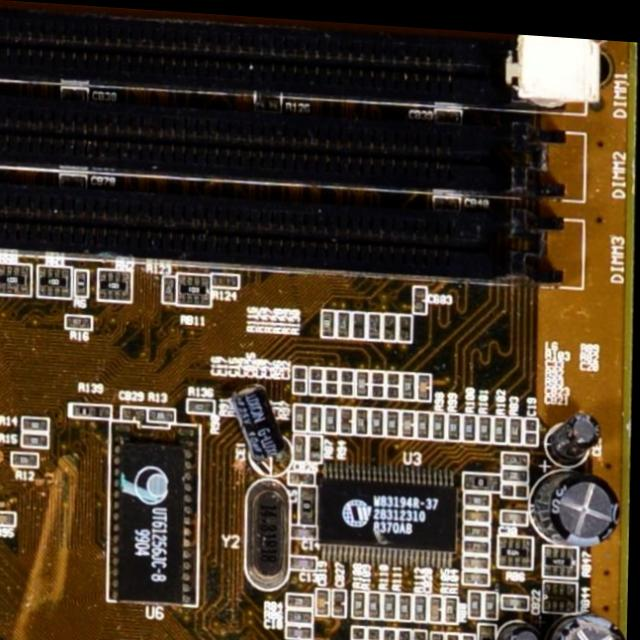IC: (102, 425, 200, 625), (317, 454, 477, 569)
capacitor: (306, 356, 324, 394), (352, 361, 371, 395), (322, 362, 341, 394), (329, 586, 349, 616), (368, 366, 388, 395), (382, 364, 401, 393), (418, 365, 436, 395), (339, 363, 356, 394), (289, 359, 307, 388), (316, 584, 332, 613), (0, 509, 21, 529), (397, 620, 416, 640), (525, 411, 538, 438), (382, 620, 399, 640), (414, 280, 427, 306), (366, 623, 384, 640), (353, 621, 367, 640), (447, 625, 463, 640), (416, 626, 429, 640)
resistor: (175, 269, 212, 304), (118, 402, 180, 421), (331, 303, 355, 337), (362, 580, 384, 613), (363, 305, 385, 337), (399, 366, 418, 401), (349, 306, 370, 337), (380, 306, 399, 339), (316, 304, 335, 336), (396, 306, 415, 337), (23, 431, 53, 450), (427, 587, 444, 620), (11, 451, 41, 468), (382, 586, 400, 614), (411, 587, 429, 615), (72, 403, 112, 415), (442, 589, 459, 617), (396, 589, 415, 614), (188, 397, 219, 412), (65, 312, 94, 328), (214, 269, 240, 286), (22, 415, 53, 429), (163, 274, 177, 303), (353, 586, 366, 614), (419, 406, 431, 435), (343, 404, 356, 430), (357, 404, 370, 430), (465, 408, 477, 435), (449, 410, 461, 436), (434, 409, 447, 433), (326, 402, 338, 428), (403, 406, 416, 430), (311, 403, 323, 428), (481, 410, 492, 436), (295, 402, 308, 423), (373, 404, 384, 428), (388, 408, 401, 428), (432, 623, 447, 640), (461, 626, 478, 640), (496, 413, 506, 434), (512, 413, 521, 435)
